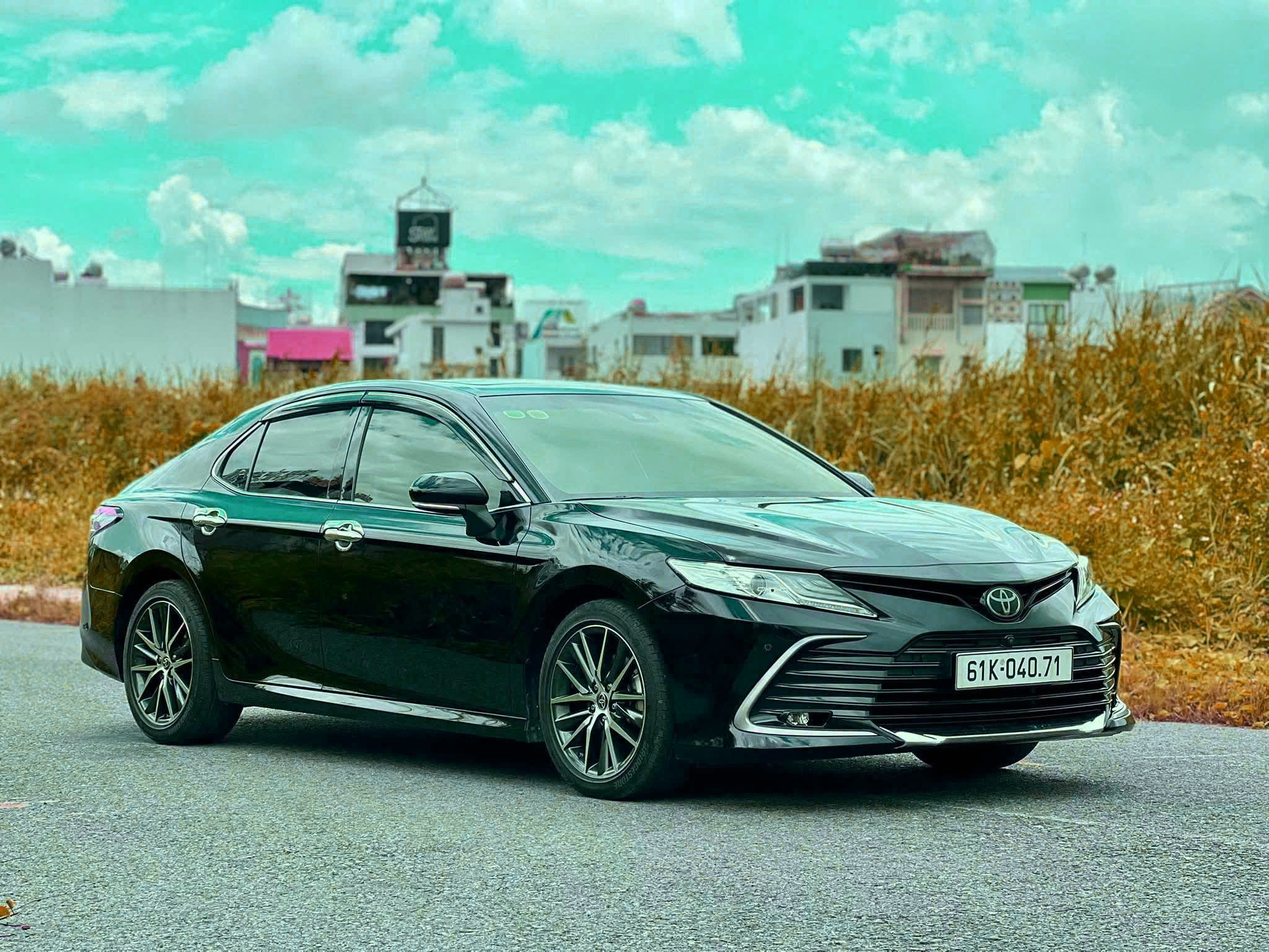Bien-so: (969, 619, 1090, 674)
